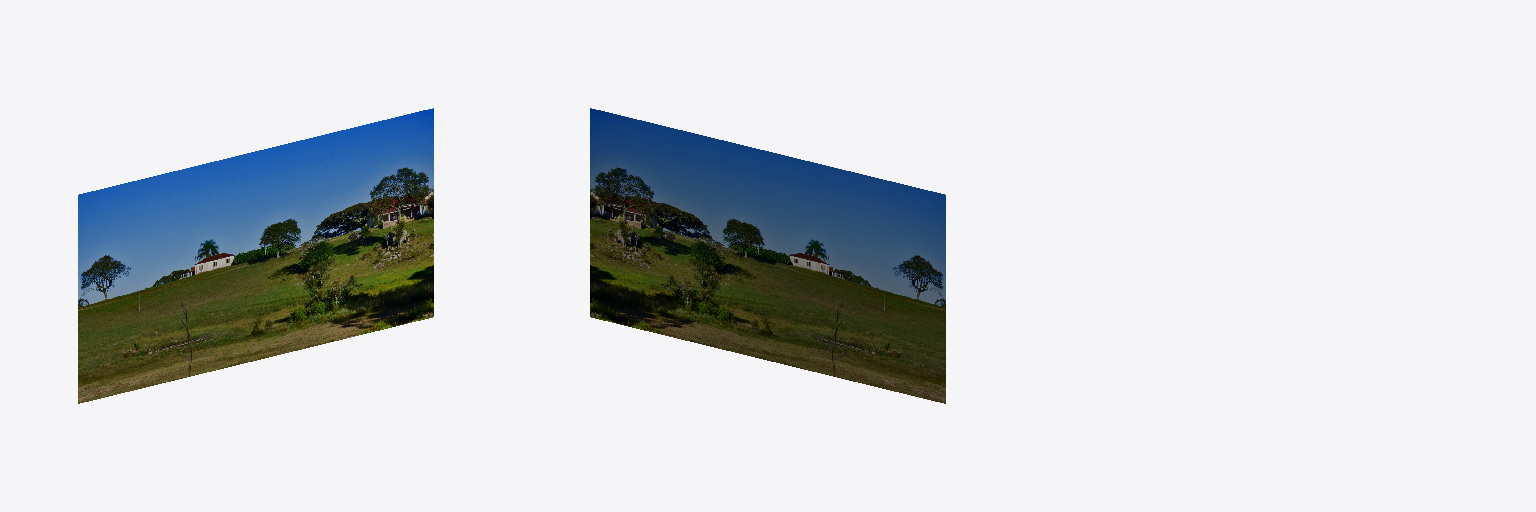
The picture shows the model from 3 angles: view 1: azimuth 30°, elevation 25°; view 2: azimuth 150°, elevation 25°; view 3: azimuth 270°, elevation 25°; orthographic projection.
Visible parts, largest first — view 1: Paisagem_01(palhaBranca); view 2: Paisagem_01(palhaBranca); view 3: none.
Part boxes in pixels (x1,y1,x2,y2): Paisagem_01(palhaBranca): (78,108,433,403); Paisagem_01(palhaBranca): (590,108,945,403).
Bounding box in the file's own units: 1.78 × 1 × 0.
1 materials, 1 textured.